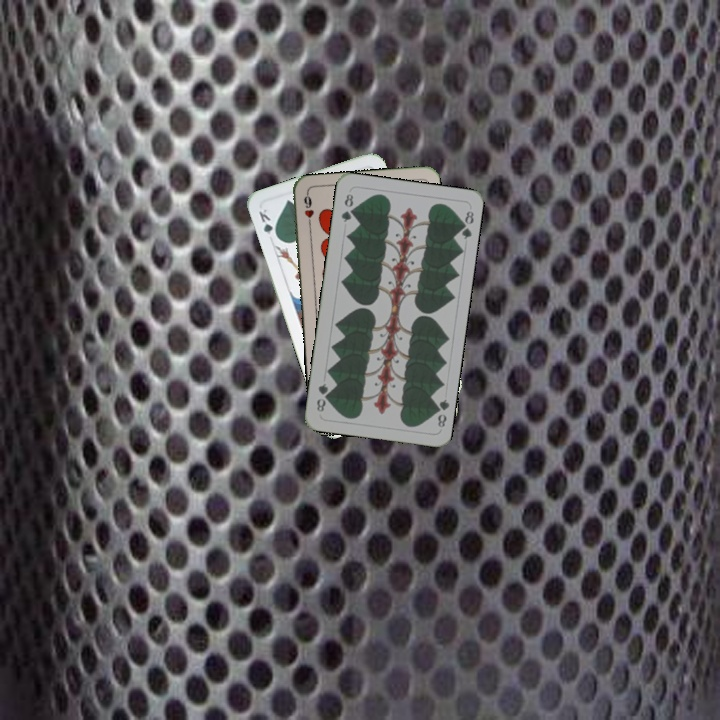G8: (430, 395, 451, 430), (337, 190, 356, 225)
GK: (255, 205, 280, 242)
H9: (300, 190, 317, 230)
